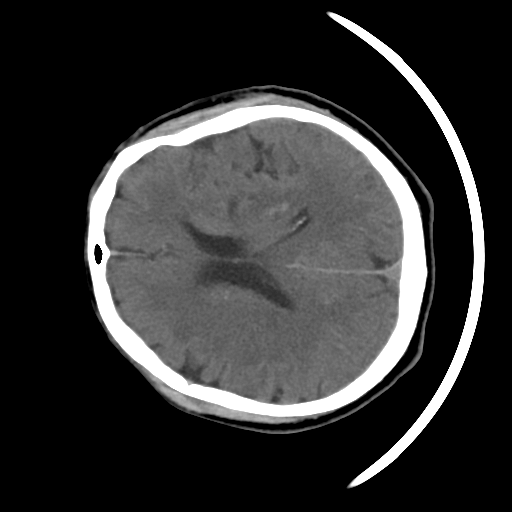a: (230, 177, 310, 231)
